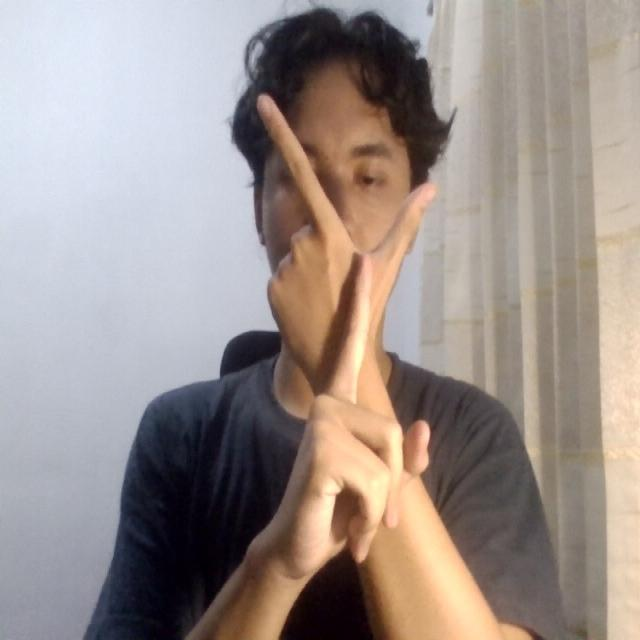No: (231, 78, 470, 582)
